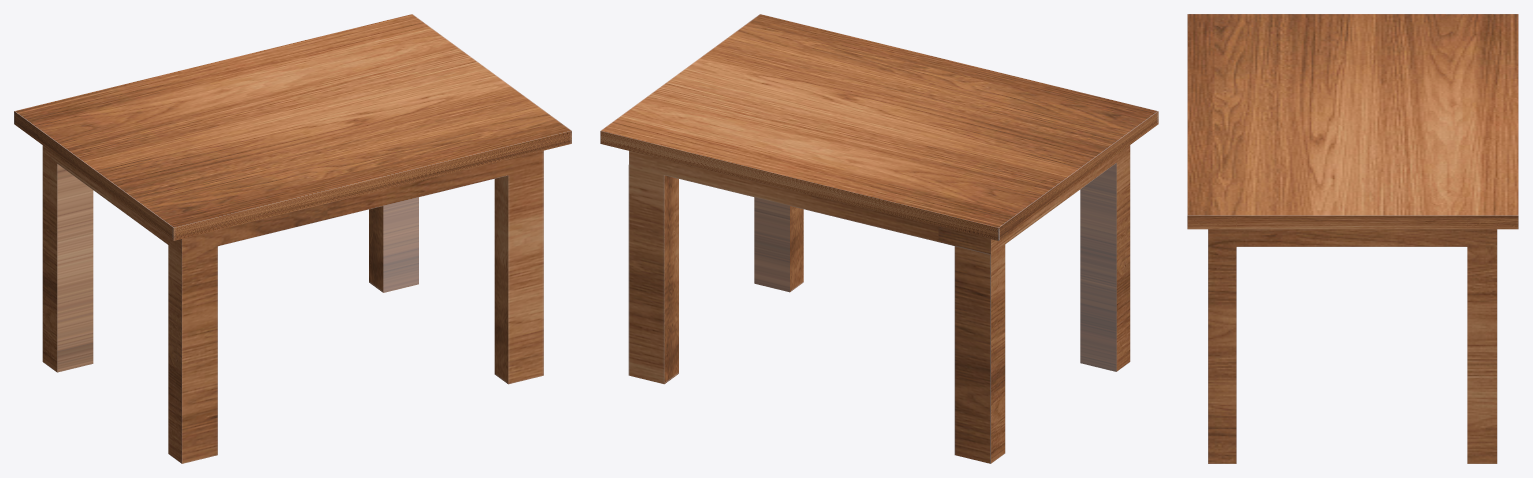
The model's file is SM_Table.fbx.
3 renders of one model, left to right at view 1: azimuth 30°, elevation 25°; view 2: azimuth 150°, elevation 25°; view 3: azimuth 270°, elevation 25°, orthographic. The views are drawn at different scales.
Visible parts, largest first — view 1: SM_Table; view 2: SM_Table; view 3: SM_Table.
Part boxes in pixels (<box>): SM_Table: <box>14,14,571,463</box>; SM_Table: <box>600,14,1158,463</box>; SM_Table: <box>1187,14,1518,463</box>.
Bounding box in the file's own units: 16.51 × 9.82 × 11.46.
